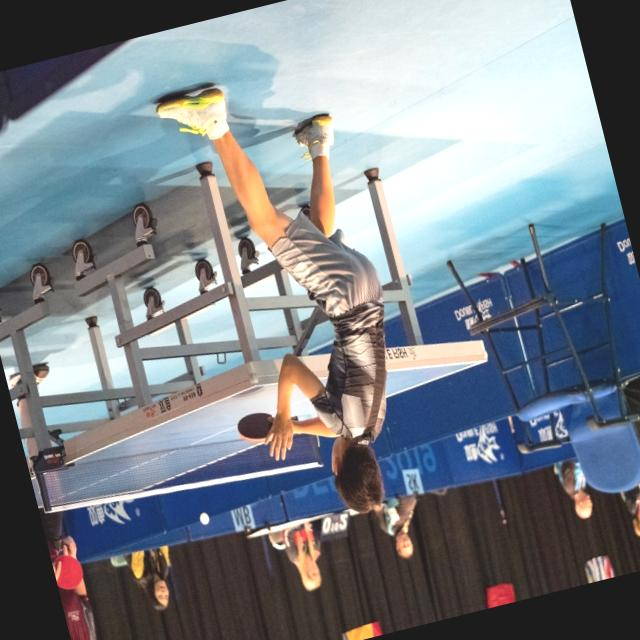TT Net: (27, 424, 316, 515)
TT Racket: (228, 398, 305, 452), (48, 544, 91, 598)
TT Table: (24, 300, 486, 533)
